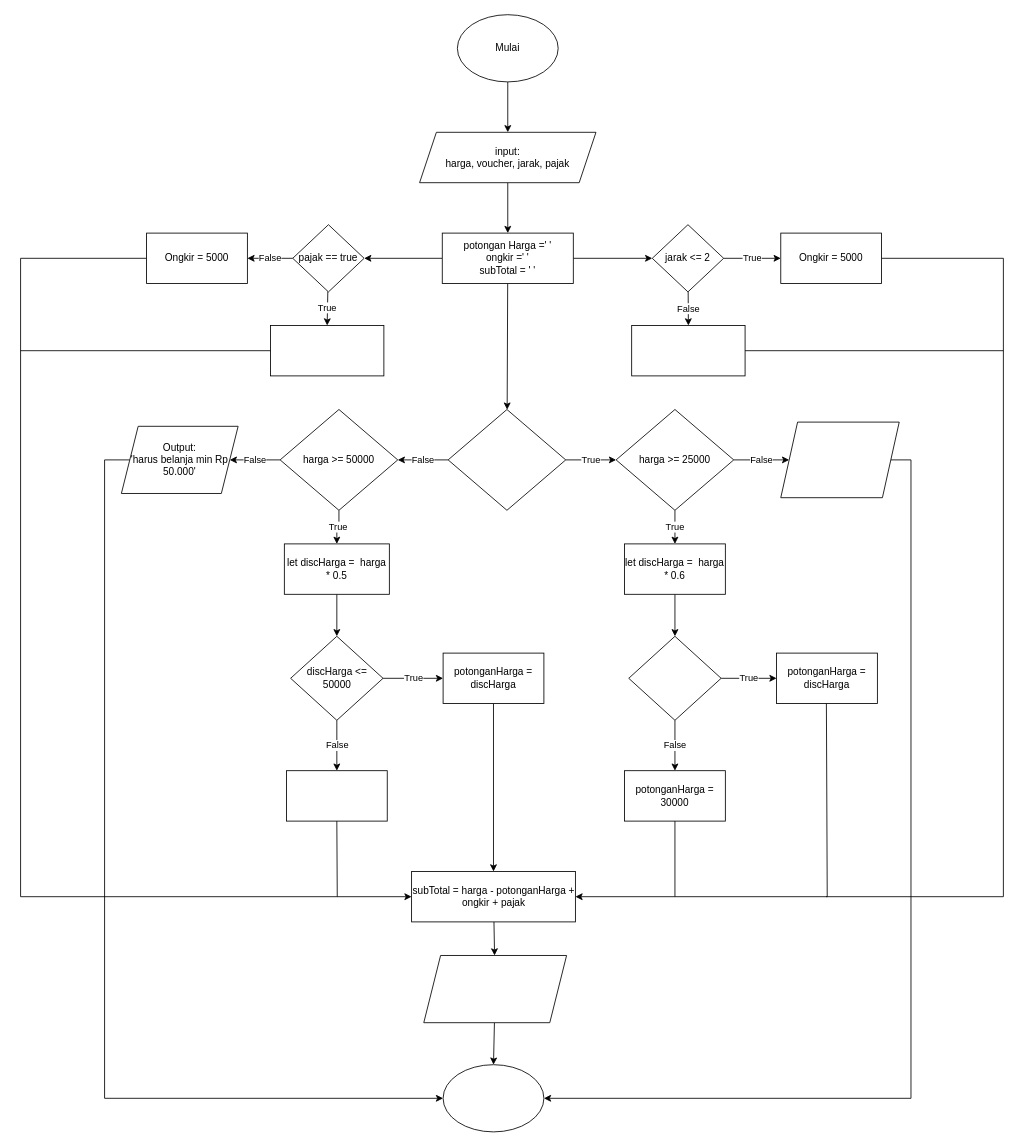
Image size: 1025x1147. Some labels were removed from this diagram. Here are the shapes that lost their labels. From the top down, the box of each, then its label:
(270, 325, 384, 376): Pajak = harga * 0.05
(631, 325, 745, 376): jarak > 2 Ongkir = 5000 + (jarak - 2) * 3000
(447, 409, 566, 510): voucher === "DITERATIR60"
(780, 421, 899, 498): Output 'harus belanja min Rp 25.000
(628, 635, 721, 720): discHarga <= 30000
(286, 770, 387, 821): potonganHarga = 50000
(423, 955, 567, 1023): Output harga, potonganHarga, ongkir, pajak, subTotal
(442, 1064, 544, 1132): Selesai
